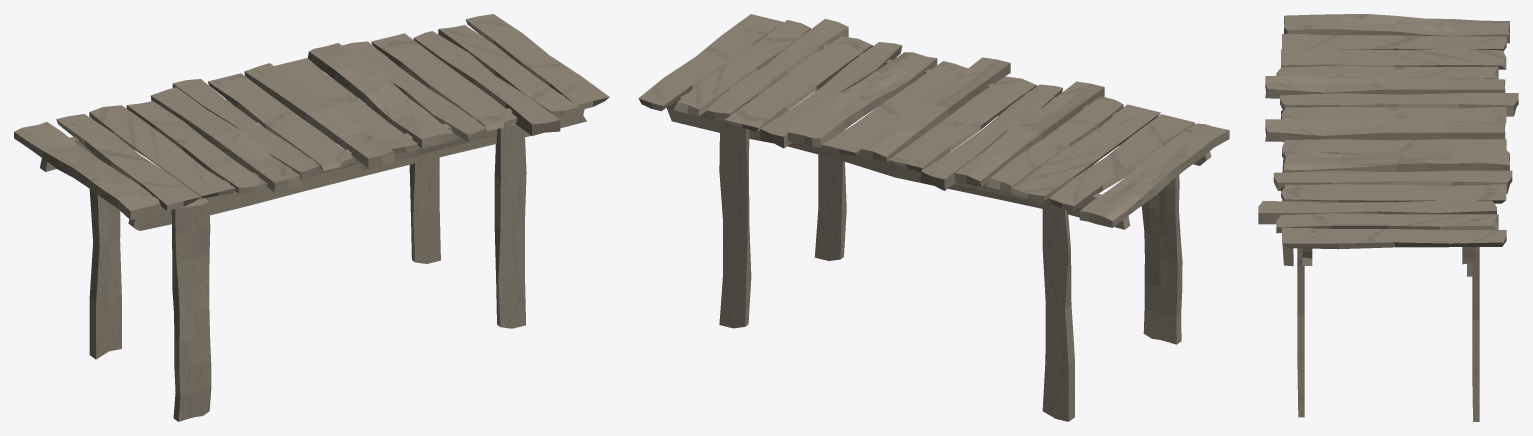
Rendered from Plataforma Tablones (con patas).fbx.
3 views of the same model, side by side, from view 1: azimuth 30°, elevation 25°; view 2: azimuth 150°, elevation 25°; view 3: azimuth 270°, elevation 25° (orthographic). The views are drawn at different scales.
Parts seen in each view (by area): view 1: Cube.015; view 2: Cube.015; view 3: Cube.015.
Part boxes in pixels (box(x1,y1,x2,y2)): Cube.015: box(14, 14, 609, 421); Cube.015: box(638, 14, 1229, 421); Cube.015: box(1258, 14, 1518, 421).
Size of the model in its own units: 1954 by 928 by 950.
